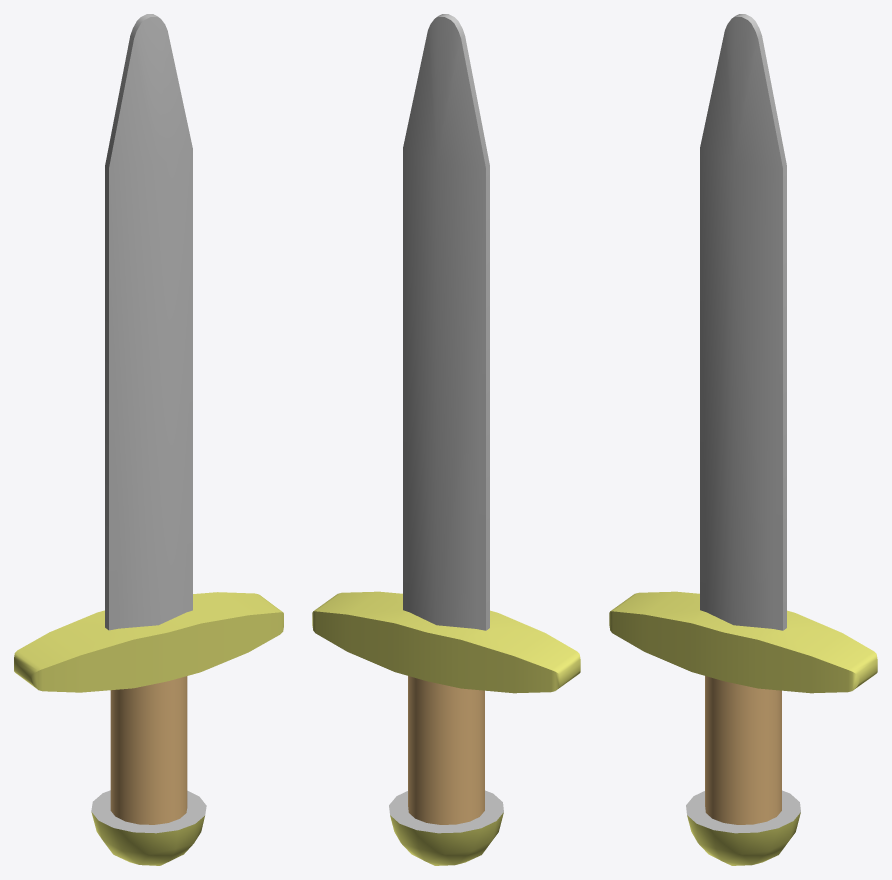
The picture shows the model from 3 angles, left to right: view 1: azimuth 30°, elevation 25°; view 2: azimuth 150°, elevation 25°; view 3: azimuth 330°, elevation 25°; orthographic projection.
Parts seen in each view (by area): view 1: SOLID-WHITE_115-material.335, SOLID-WHITE_115-material.001, SOLID-WHITE_115-material.002; view 2: SOLID-WHITE_115-material.335, SOLID-WHITE_115-material.001, SOLID-WHITE_115-material.002; view 3: SOLID-WHITE_115-material.335, SOLID-WHITE_115-material.001, SOLID-WHITE_115-material.002.
Part boxes in pixels (box(x1,y1,x2,y2)): SOLID-WHITE_115-material.335: box(91, 14, 206, 833); SOLID-WHITE_115-material.001: box(14, 592, 283, 865); SOLID-WHITE_115-material.002: box(110, 676, 187, 824); SOLID-WHITE_115-material.335: box(389, 14, 503, 833); SOLID-WHITE_115-material.001: box(312, 591, 580, 865); SOLID-WHITE_115-material.002: box(408, 676, 484, 824); SOLID-WHITE_115-material.335: box(686, 14, 800, 833); SOLID-WHITE_115-material.001: box(609, 591, 877, 865); SOLID-WHITE_115-material.002: box(705, 676, 781, 824).
Size of the model in its own units: 51.86 by 167 by 21.11.
